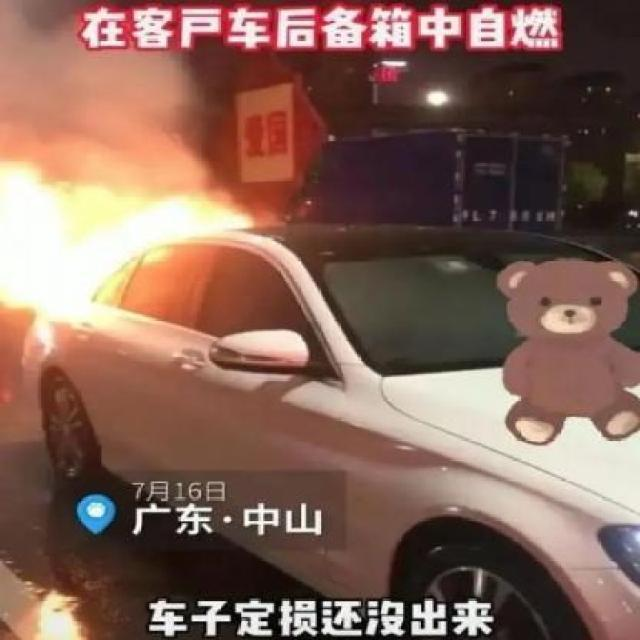Fire: (0, 162, 245, 298)
Smoke: (1, 41, 214, 200)
